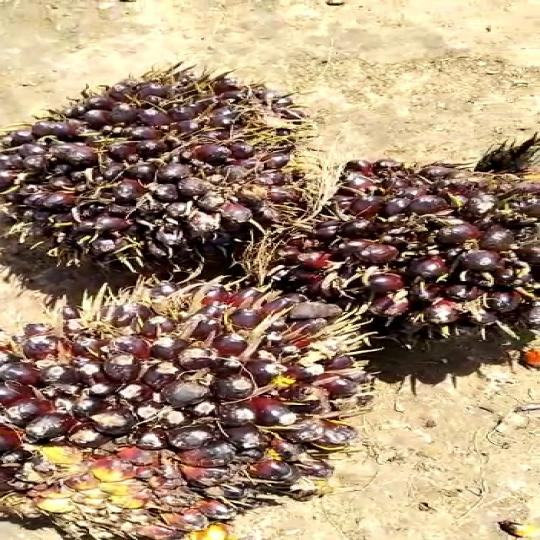mentah: (0, 267, 380, 533), (0, 60, 326, 285), (284, 152, 540, 377)
